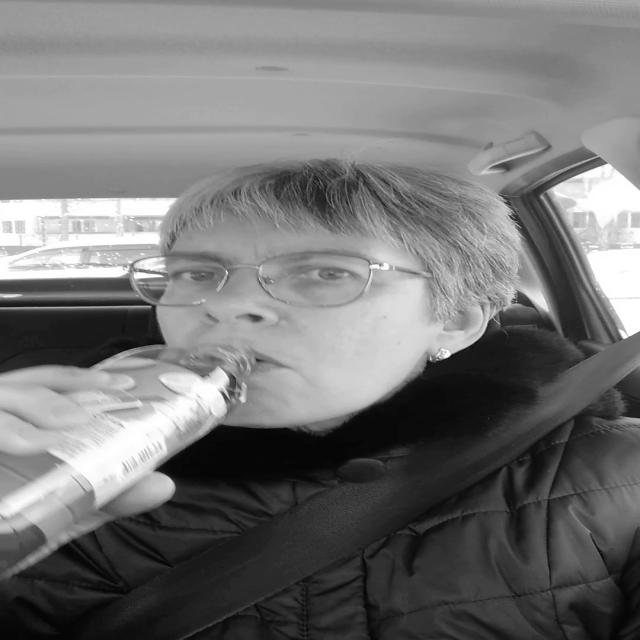Drinking: (3, 336, 259, 586)
Seatbelt: (87, 330, 640, 639)
